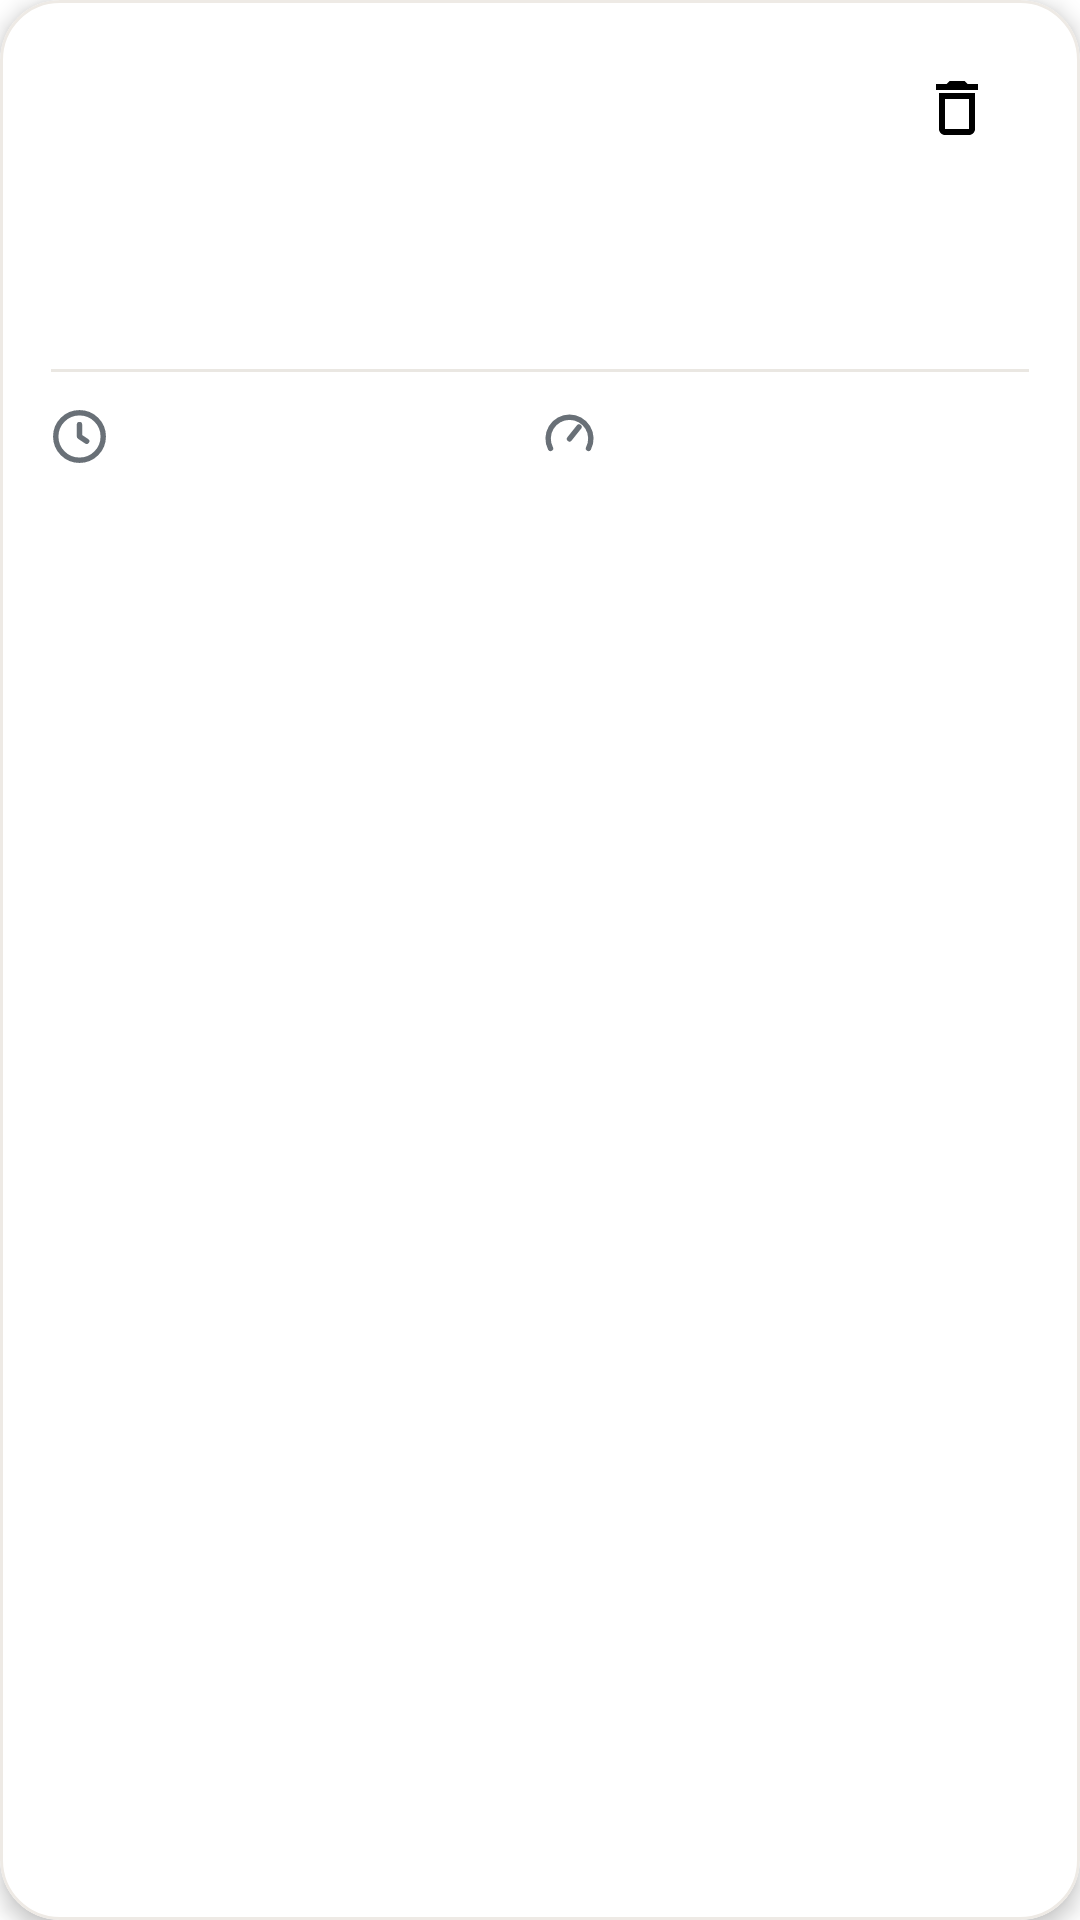

Locate icon controls on the screen. Image size 1080px×1920px, boxes as (x1, y1, x2, y2).
delete: (936, 81, 978, 135)
figma duration: (53, 410, 106, 463)
figma speed: (545, 414, 594, 452)
